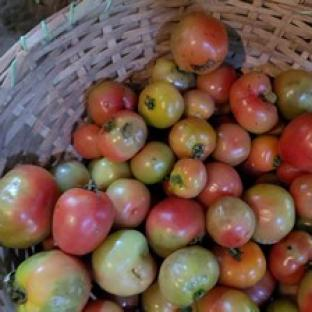Tomato: (9, 250, 90, 311), (0, 165, 59, 247), (92, 229, 157, 296), (52, 189, 114, 254), (145, 197, 206, 257), (158, 246, 218, 307), (170, 12, 228, 73), (243, 183, 295, 243), (230, 72, 278, 133), (212, 240, 267, 288), (207, 195, 256, 247), (98, 109, 147, 161), (268, 230, 311, 284), (87, 80, 137, 126), (138, 81, 185, 128), (106, 179, 150, 228), (197, 162, 243, 207), (169, 117, 215, 161), (130, 141, 175, 185), (273, 69, 311, 119), (279, 113, 311, 171), (197, 63, 238, 108), (193, 285, 259, 311), (212, 122, 250, 165), (151, 58, 196, 91), (169, 158, 207, 197), (88, 158, 132, 190), (243, 268, 277, 306), (52, 159, 90, 192), (246, 134, 279, 172), (141, 280, 178, 311), (73, 123, 101, 160), (290, 173, 311, 220), (183, 90, 215, 119), (276, 161, 306, 186), (297, 271, 311, 311), (265, 297, 299, 311), (83, 300, 123, 311)
